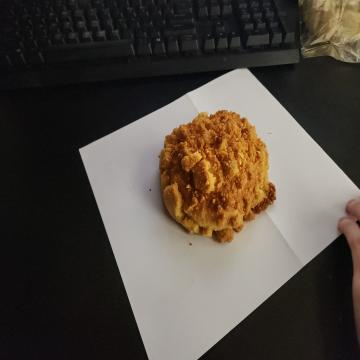soboru_bread: (157, 109, 277, 237)
